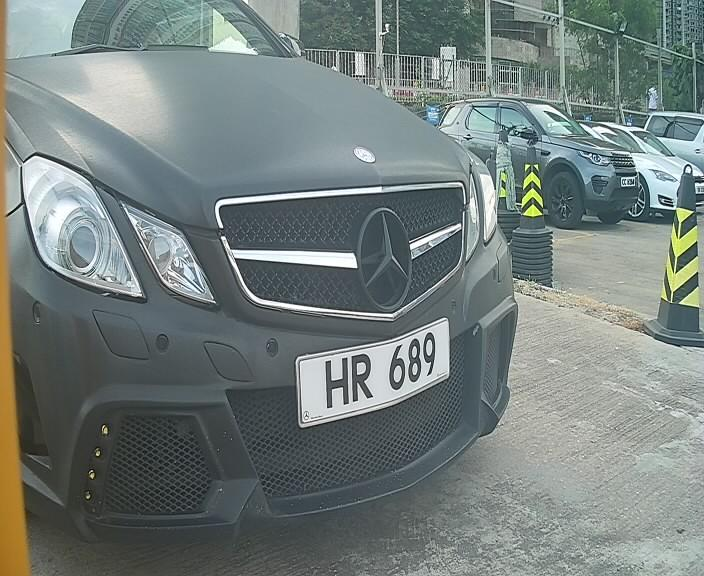privatecar: (1, 16, 544, 533)
